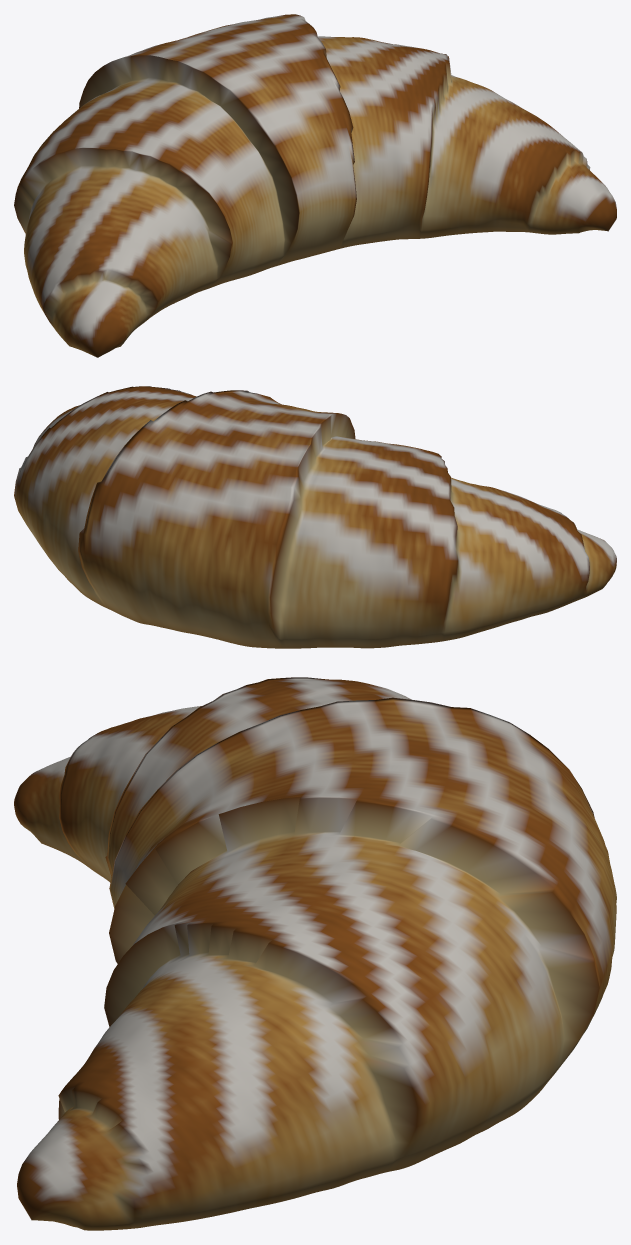
The model's file is plunder-hoernchen.glb.
3 views of the same model, one above another, from view 1: azimuth 30°, elevation 25°; view 2: azimuth 150°, elevation 25°; view 3: azimuth 270°, elevation 25° (orthographic). The views are drawn at different scales.
Parts seen in each view (by area): view 1: plunder-hoernchen; view 2: plunder-hoernchen; view 3: plunder-hoernchen.
Boxes of the visible parts, box(x1,y1,x2,y2) form: plunder-hoernchen: box(14, 14, 616, 357); plunder-hoernchen: box(14, 386, 616, 648); plunder-hoernchen: box(14, 677, 616, 1230).
Size of the model in its own units: 0.15 by 0.045 by 0.09.
